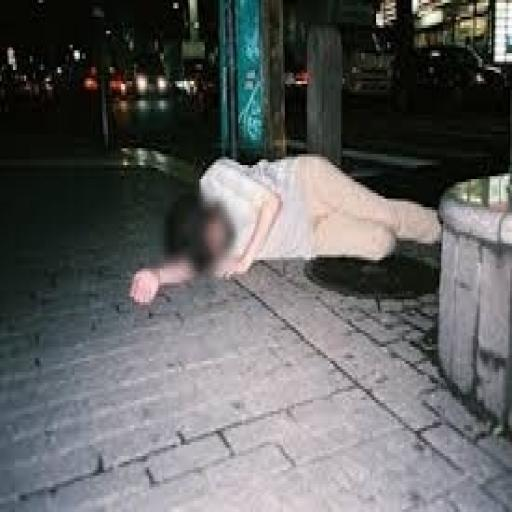sleeping: (127, 148, 443, 308)
